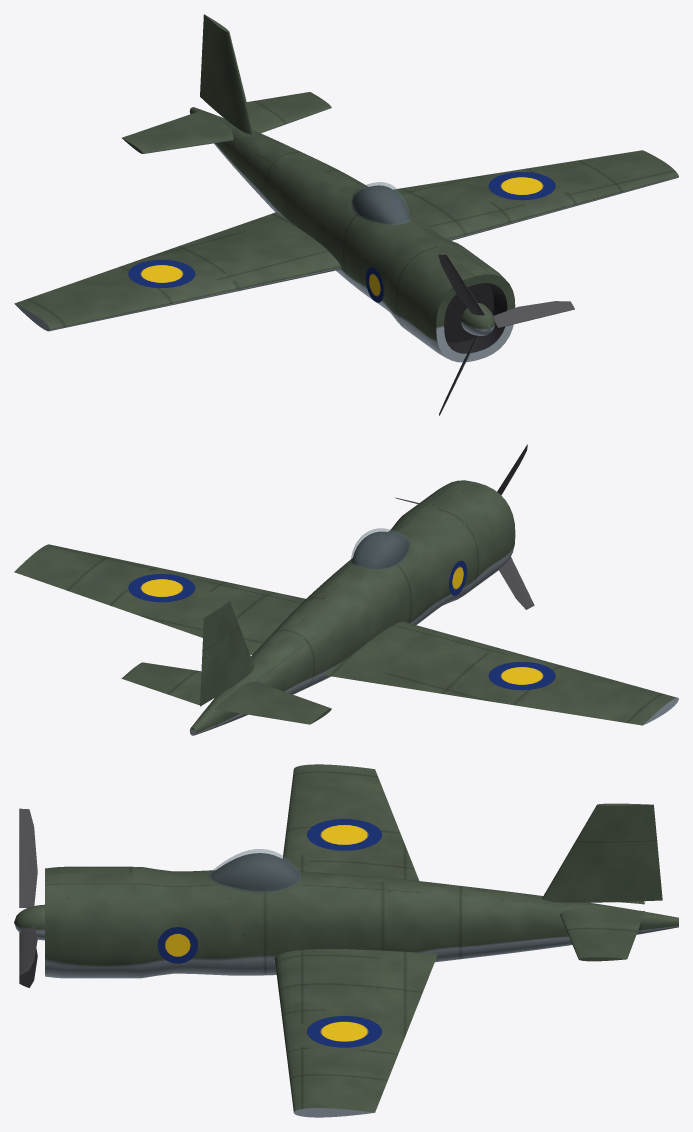
The picture shows the model from 3 angles, top to bottom: view 1: azimuth 30°, elevation 25°; view 2: azimuth 150°, elevation 25°; view 3: azimuth 270°, elevation 25°; orthographic projection. The views are drawn at different scales.
Visible parts, largest first — view 1: Fuselage, Wing0_R, Wing0_L, Intake, Fin2, Propeller, Htail1_R, Htail1_L, Canopy, Cockpit, Decal_Wing_U_L, Decal_Wing_U_R; view 2: Fuselage, Wing0_R, Wing0_L, Fin2, Htail1_R, Htail1_L, Canopy, Cockpit, Decal_Wing_U_L, Decal_Wing_U_R, Propeller, Decal_Fus_R; view 3: Fuselage, Wing0_L, Wing0_R, Fin2, Htail1_L, Propeller, Canopy, Cockpit, Decal_Wing_U_R, Decal_Wing_U_L, Decal_Fus_L.
Boxes of the visible parts, x1,y1,x2,y2 form: Fuselage: (189, 107, 504, 358); Wing0_R: (14, 212, 341, 331); Wing0_L: (393, 150, 678, 240); Intake: (436, 274, 515, 362); Fin2: (200, 14, 254, 134); Propeller: (438, 254, 574, 415); Htail1_R: (122, 110, 233, 153); Htail1_L: (246, 92, 331, 133); Canopy: (351, 182, 410, 224); Cockpit: (352, 185, 409, 223); Decal_Wing_U_L: (488, 172, 555, 200); Decal_Wing_U_R: (128, 259, 195, 287); Fuselage: (189, 480, 515, 735); Wing0_R: (324, 621, 678, 725); Wing0_L: (14, 544, 305, 654); Fin2: (200, 599, 254, 706); Htail1_R: (214, 681, 331, 724); Htail1_L: (121, 662, 201, 705); Canopy: (351, 528, 410, 569); Cockpit: (352, 531, 409, 568); Decal_Wing_U_L: (128, 574, 195, 602); Decal_Wing_U_R: (488, 662, 555, 690); Propeller: (395, 444, 534, 609); Decal_Fus_R: (449, 560, 466, 595); Fuselage: (45, 866, 678, 978); Wing0_L: (274, 949, 437, 1117); Wing0_R: (282, 764, 419, 880); Fin2: (542, 803, 662, 902); Htail1_L: (560, 907, 644, 961); Propeller: (14, 808, 44, 987); Canopy: (208, 849, 300, 893); Cockpit: (210, 853, 299, 891); Decal_Wing_U_R: (307, 819, 381, 850); Decal_Wing_U_L: (307, 1016, 381, 1047); Decal_Fus_L: (157, 927, 197, 963).
Size of the model in its own units: 10 by 2.82 by 8.18.
6 materials, 2 textured.
